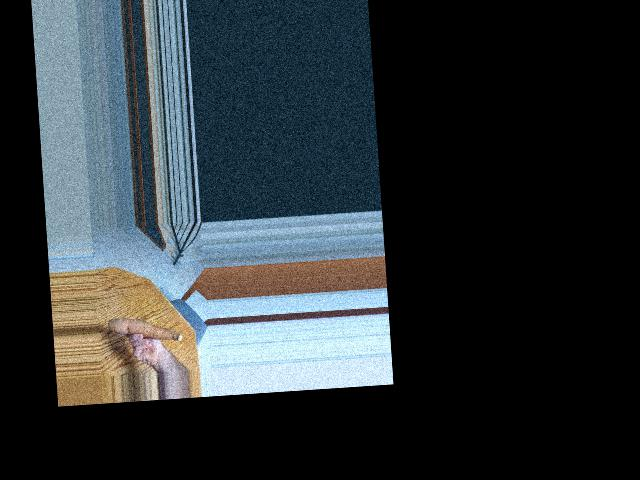sweet_potato: (110, 311, 183, 348)
